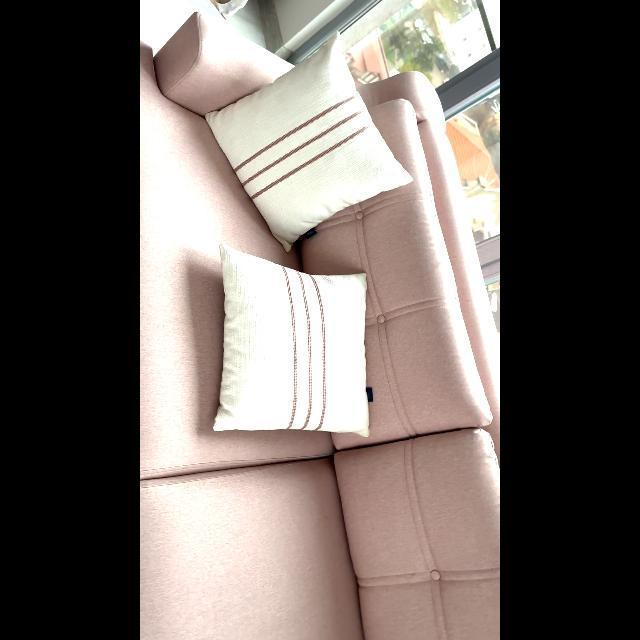throw pillow: (207, 21, 421, 259), (203, 246, 384, 434)
